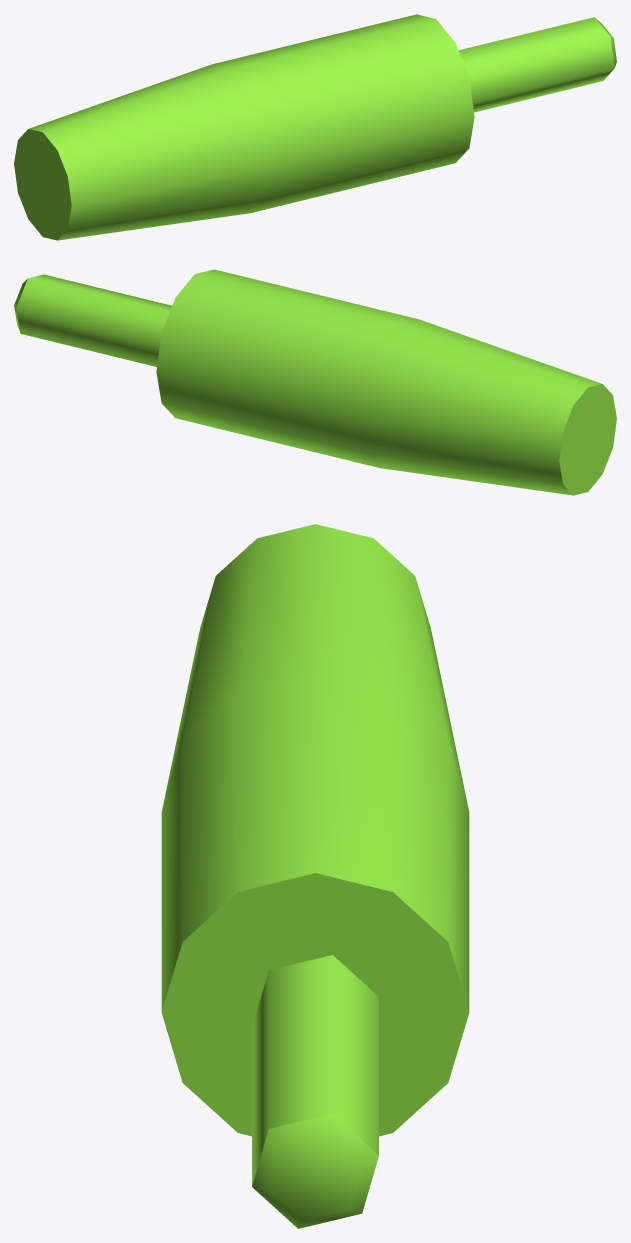
The picture shows the model from 3 angles, top to bottom: view 1: azimuth 30°, elevation 25°; view 2: azimuth 150°, elevation 25°; view 3: azimuth 270°, elevation 25°; orthographic projection. The views are drawn at different scales.
Parts seen in each view (by area): view 1: SM_DC; view 2: SM_DC; view 3: SM_DC.
Part boxes in pixels (left/top/right/bottom): SM_DC: left=14, top=14, right=616, bottom=240; SM_DC: left=14, top=269, right=616, bottom=495; SM_DC: left=161, top=524, right=469, bottom=1228.
Size of the model in its own units: 3.88 by 0.9186 by 0.9186.
